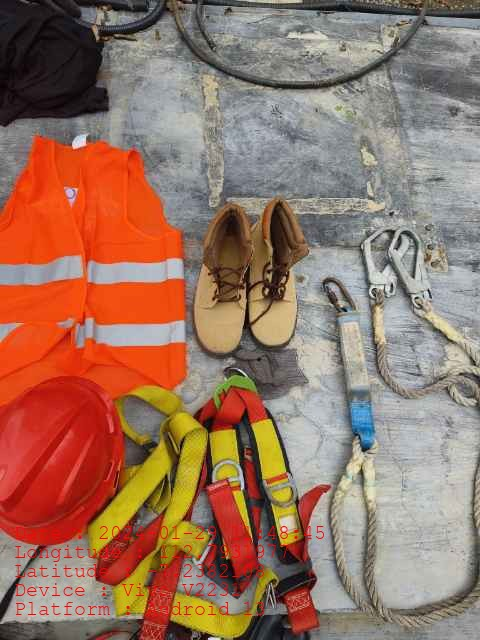ROMPI: (1, 140, 181, 391)
SEPATU: (190, 202, 308, 358)
TAMBANG_SLING: (320, 227, 480, 627)
